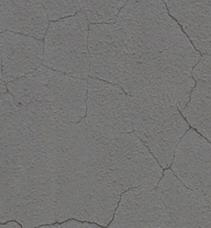retracao: (0, 0, 129, 125), (137, 2, 211, 201), (0, 184, 138, 228)
